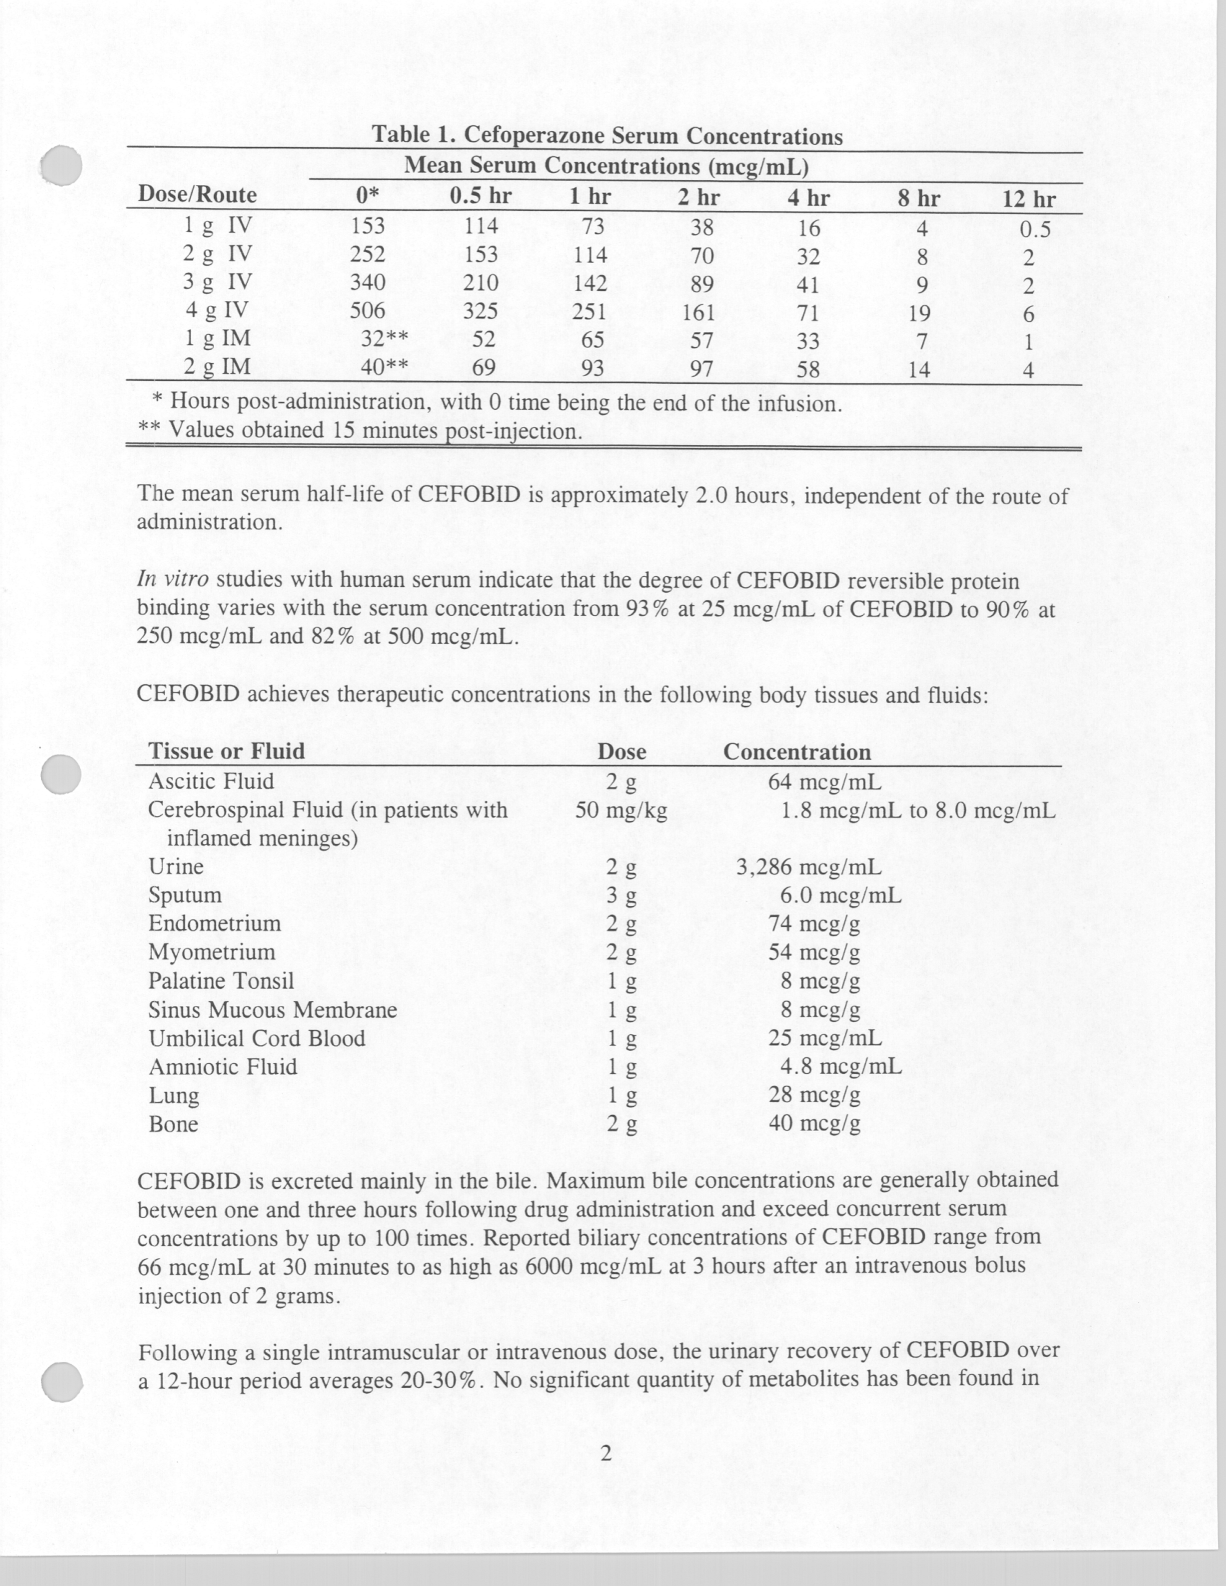partial_lined: (134, 735, 1064, 1146)
partial_lined_merged_cells: (124, 117, 1084, 453)
